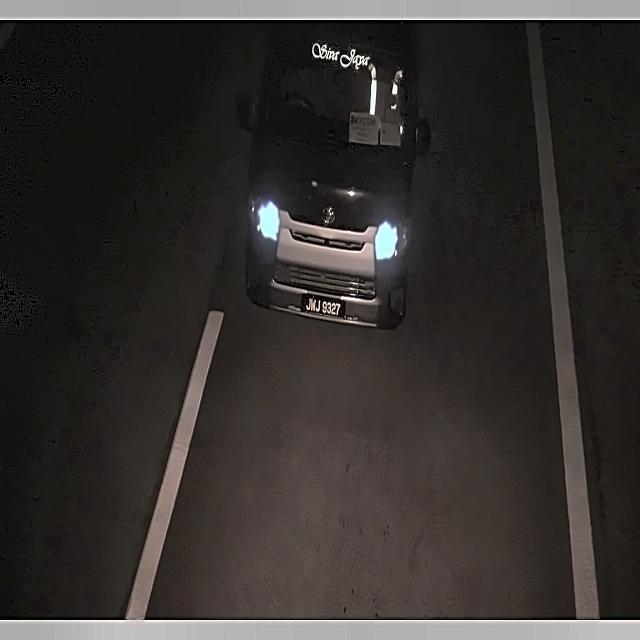car: (299, 292, 350, 327)
